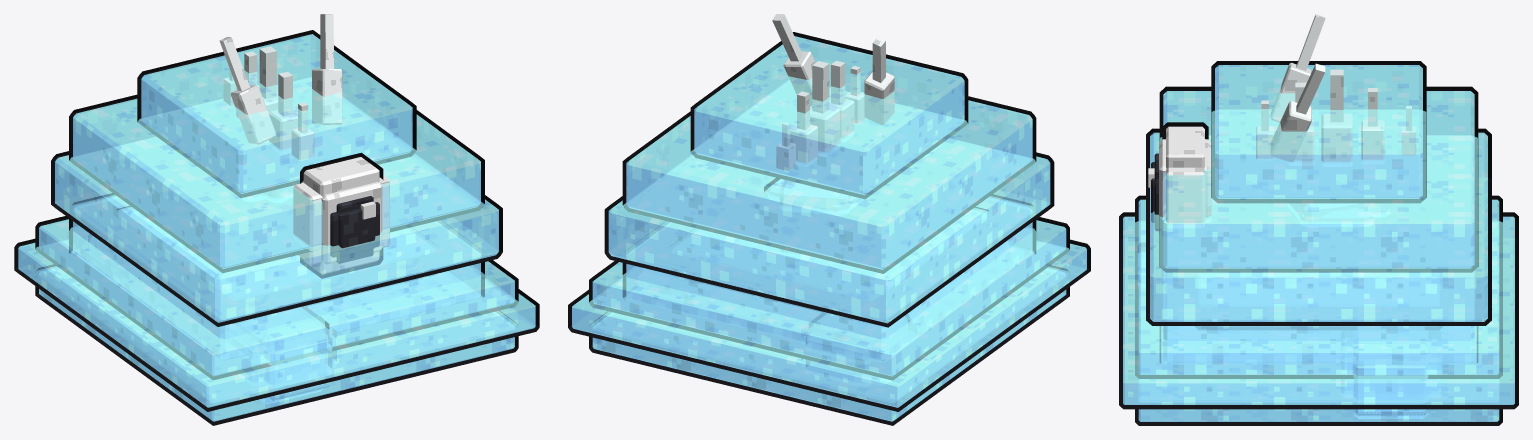
File: lake_ooze_03.glb
3 views of the same model, side by side, from view 1: azimuth 30°, elevation 25°; view 2: azimuth 150°, elevation 25°; view 3: azimuth 270°, elevation 25° (orthographic). The views are drawn at different scales.
Parts seen in each view (by area): view 1: model; view 2: model; view 3: model.
Part boxes in pixels (x1,y1,x2,y2): model: (14, 14, 539, 425); model: (568, 14, 1090, 425); model: (1119, 14, 1518, 425).
Bounding box in the file's own units: 1.11 × 1.02 × 1.11.
Materials: 7 (6 with a texture image).
